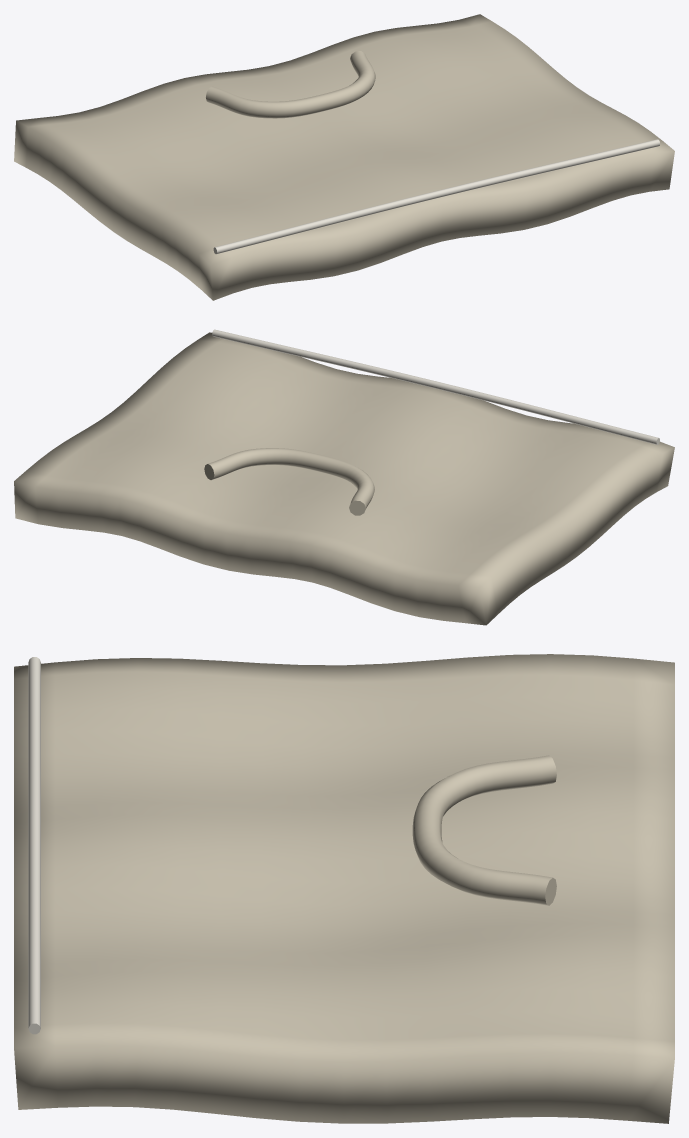
The model's file is sku_folded_knit.glb.
3 views of the same model, one above another, from view 1: azimuth 30°, elevation 25°; view 2: azimuth 150°, elevation 25°; view 3: azimuth 270°, elevation 25° (orthographic). The views are drawn at different scales.
Parts seen in each view (by area): view 1: sku_folded_knit_Woven_1, sku_folded_knit_FY21_chalk_lacquer; view 2: sku_folded_knit_Woven_1, sku_folded_knit_FY21_chalk_lacquer; view 3: sku_folded_knit_Woven_1, sku_folded_knit_FY21_chalk_lacquer.
Boxes of the visible parts, left/top/right/bottom form: sku_folded_knit_Woven_1: left=14, top=14, right=674, bottom=300; sku_folded_knit_FY21_chalk_lacquer: left=213, top=139, right=659, bottom=254; sku_folded_knit_Woven_1: left=14, top=332, right=674, bottom=625; sku_folded_knit_FY21_chalk_lacquer: left=212, top=329, right=659, bottom=444; sku_folded_knit_Woven_1: left=14, top=654, right=674, bottom=1123; sku_folded_knit_FY21_chalk_lacquer: left=28, top=657, right=40, bottom=1034.
Bounding box in the file's own units: 0.4447 × 0.0636 × 0.32.
